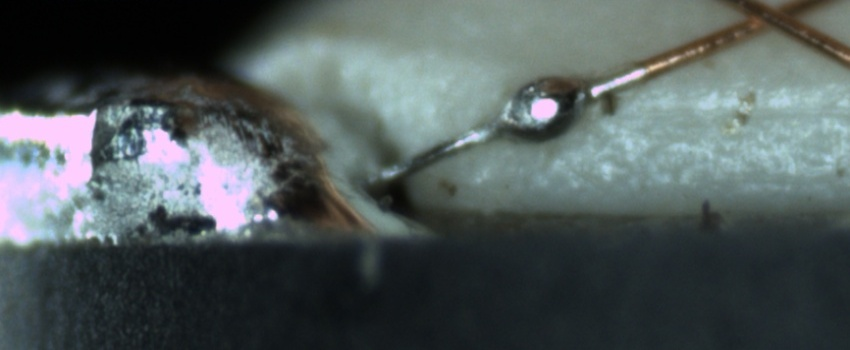CL: (725, 0, 814, 41)
DL: (608, 78, 850, 142)
TB: (496, 74, 587, 146)
TS: (369, 60, 647, 190)
TTCW: (357, 39, 694, 196)
